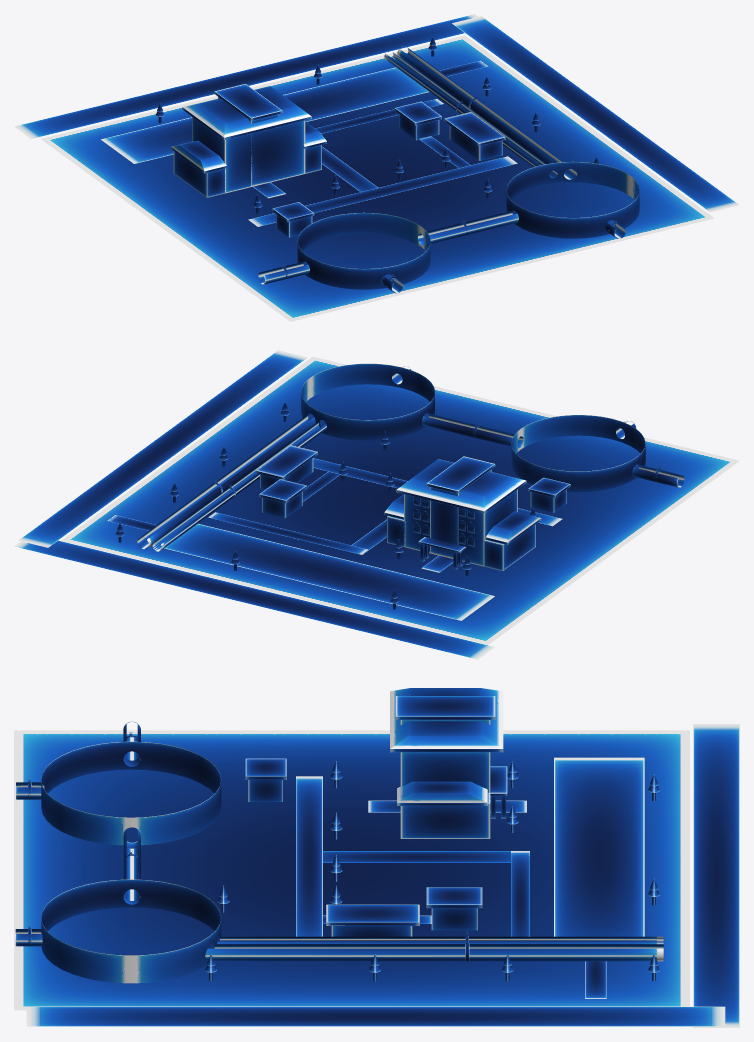
3 views of the same model, one above another, from view 1: azimuth 30°, elevation 25°; view 2: azimuth 150°, elevation 25°; view 3: azimuth 270°, elevation 25° (orthographic). The views are drawn at different scales.
Parts seen in each view (by area): view 1: 阀门.005; view 2: 阀门.005; view 3: 阀门.005.
Boxes of the visible parts, x1,y1,x2,y2 form: 阀门.005: (14,14,739,321); 阀门.005: (14,350,739,659); 阀门.005: (14,688,739,1027).
Size of the model in its own units: 252 by 41.54 by 254.
1 material, 1 textured.
